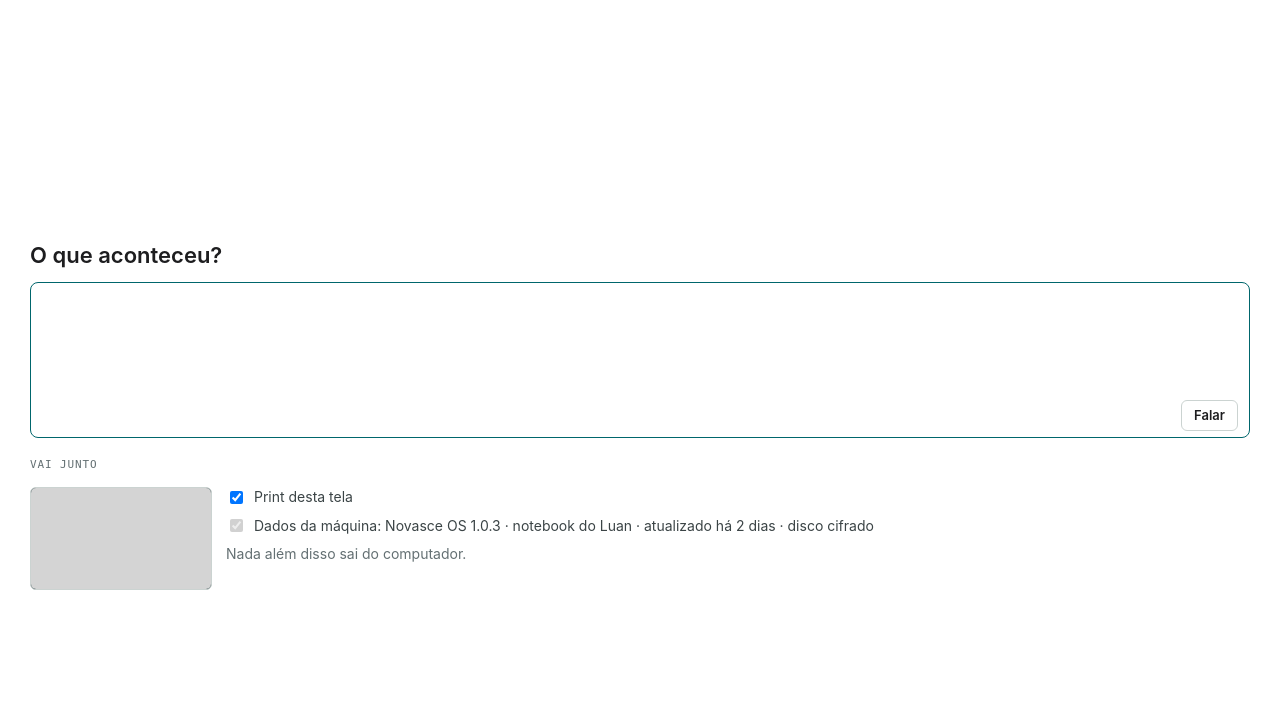
Test: Pedir ajuda › sem internet: guardado, diz o que vai acontecer
The image size is (1280, 720).
(page scrolled)
Expected: the text "Dados da máquina" is shown, [254, 516, 385, 534]
Type "Travou." into the text box labelled "O que aconteceu?" at {"x": 640, "y": 360}, box [30, 282, 1250, 438]
(page scrolled)
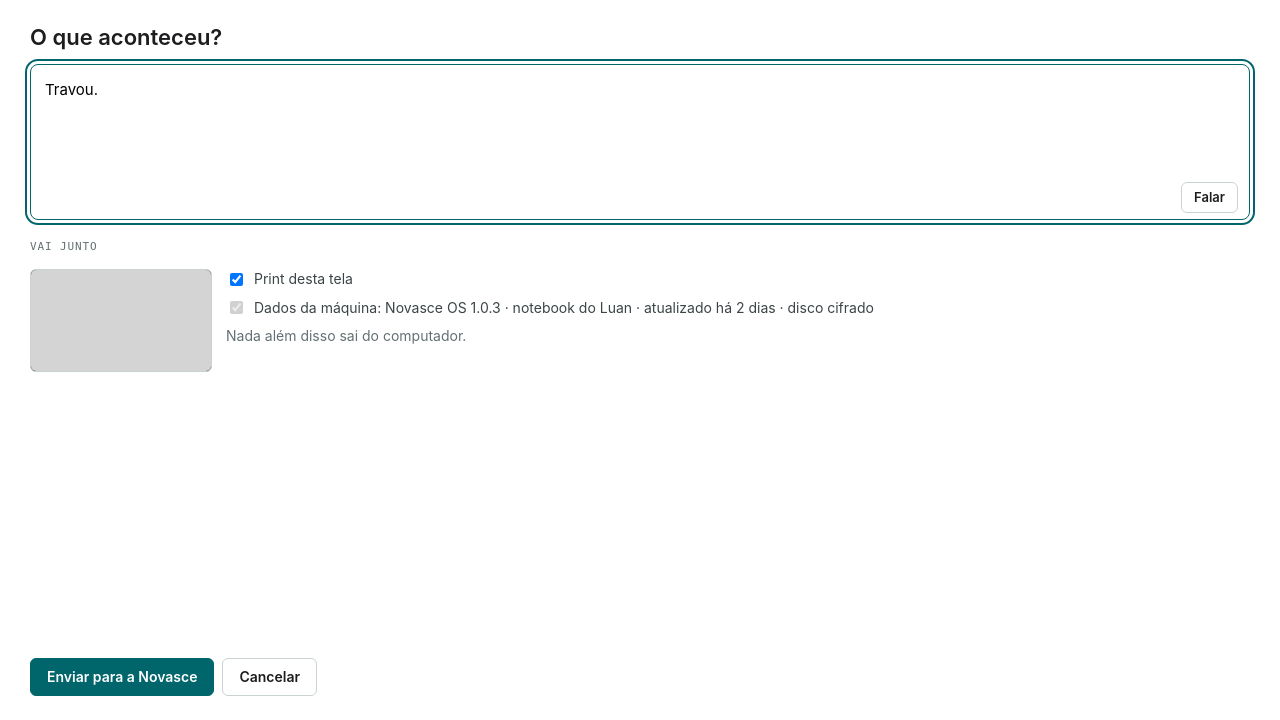
Click the button "Enviar para a Novasce" at {"x": 122, "y": 677}, box [30, 658, 214, 696]
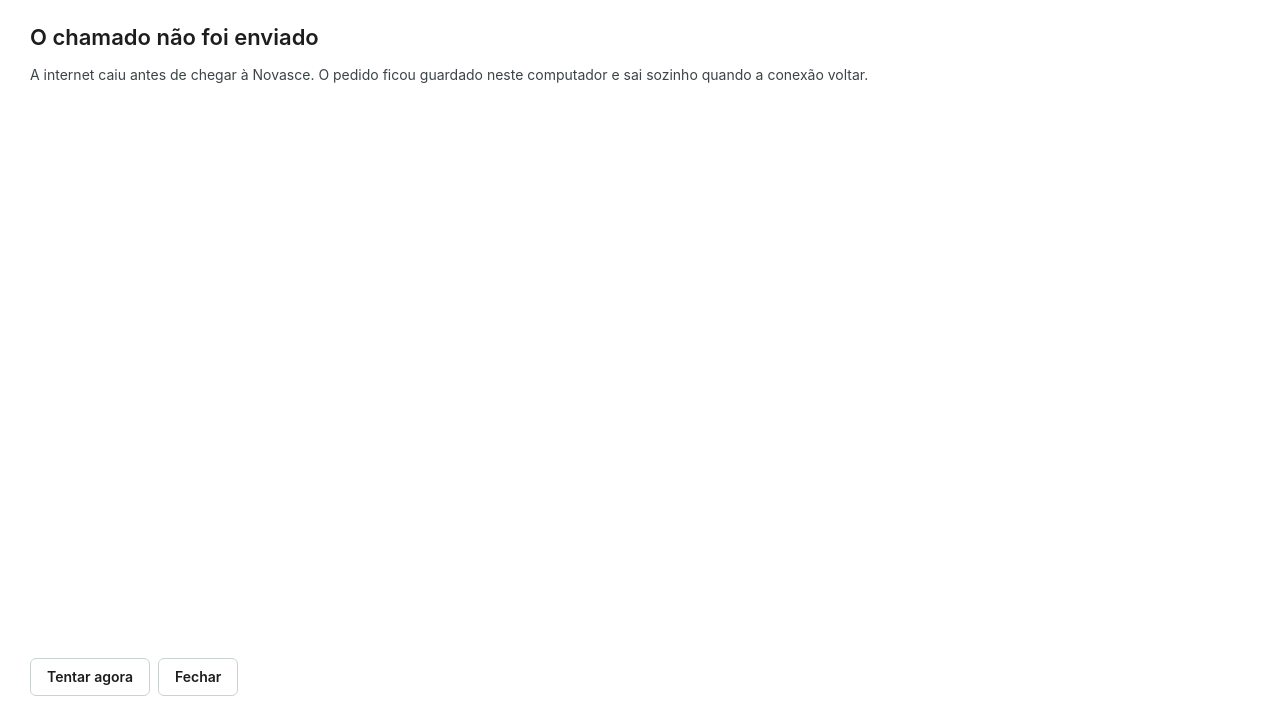
Expected: the heading "O chamado não foi enviado" is shown, [30, 24, 319, 50]
Expected: the text "A internet caiu antes de chegar à Novasce. O pedido ficou guardado neste computador e sai sozinho quando a conexão volta" is shown, [30, 66, 868, 83]
Expected: the button "Tentar agora" is shown, [30, 658, 150, 696]
